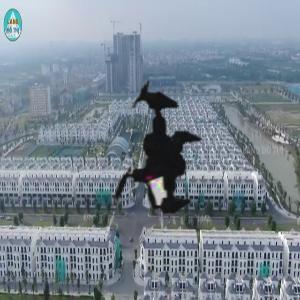drone: (50, 52, 251, 253)
